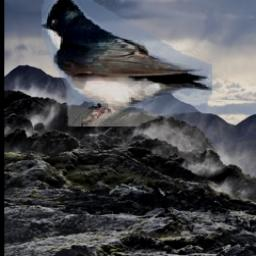Swallow: (42, 0, 212, 127)
